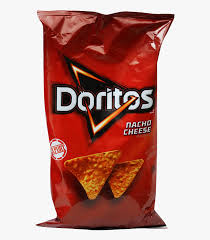Doritos: (30, 4, 175, 230)
